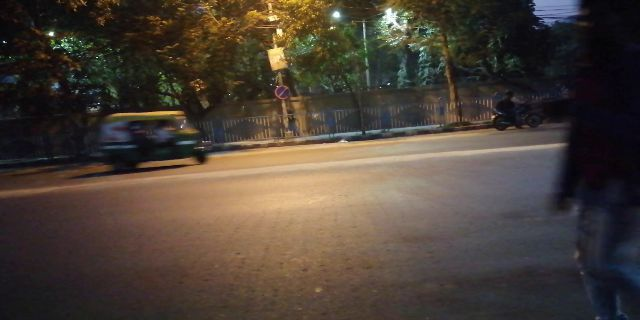Autorickshaw: (91, 108, 209, 173)
